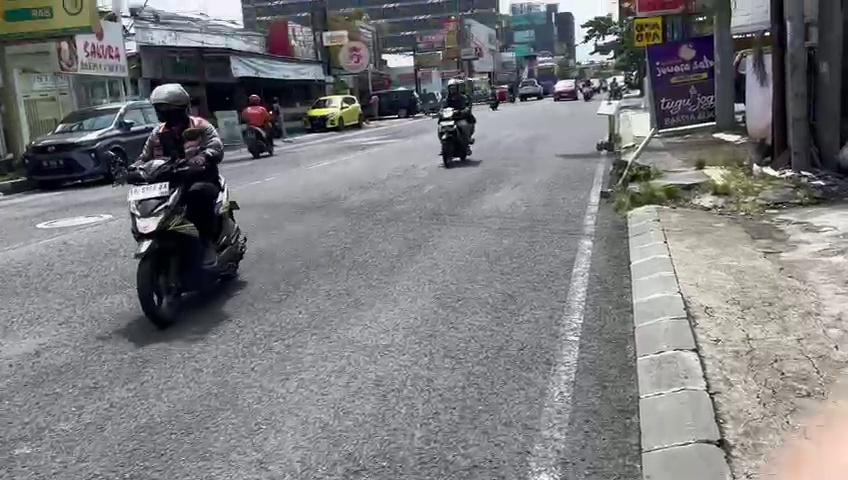helm: (146, 80, 196, 133)
riding: (109, 78, 257, 335)
